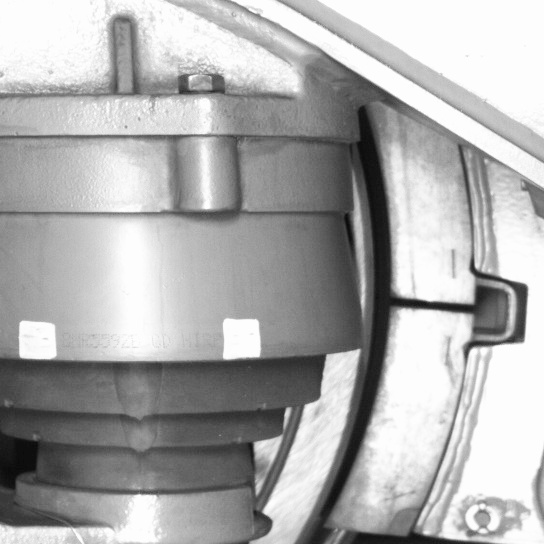KnifeSwitch: (294, 135, 490, 540)
